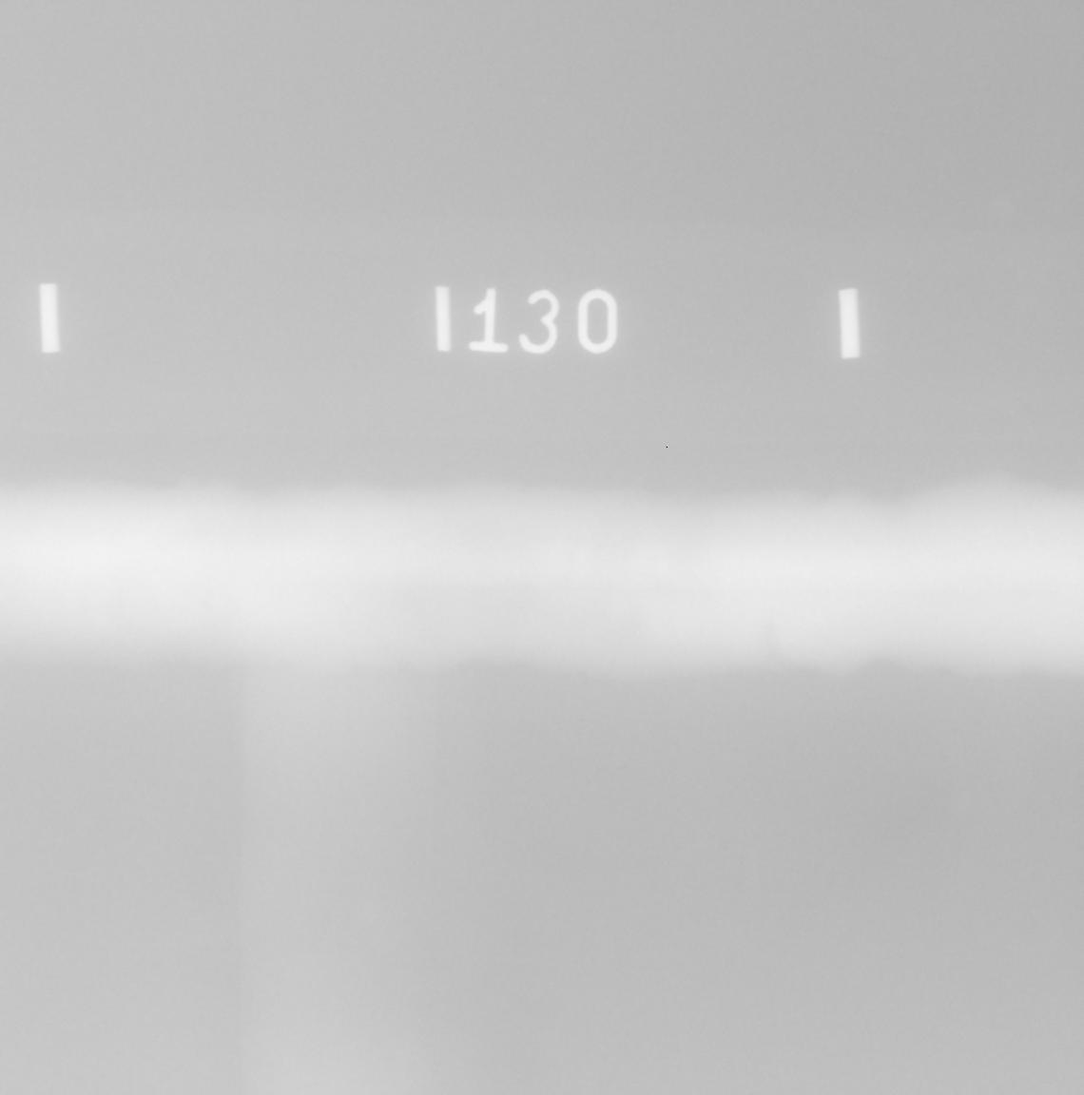Pore/Porosity: (202, 602, 208, 606)
